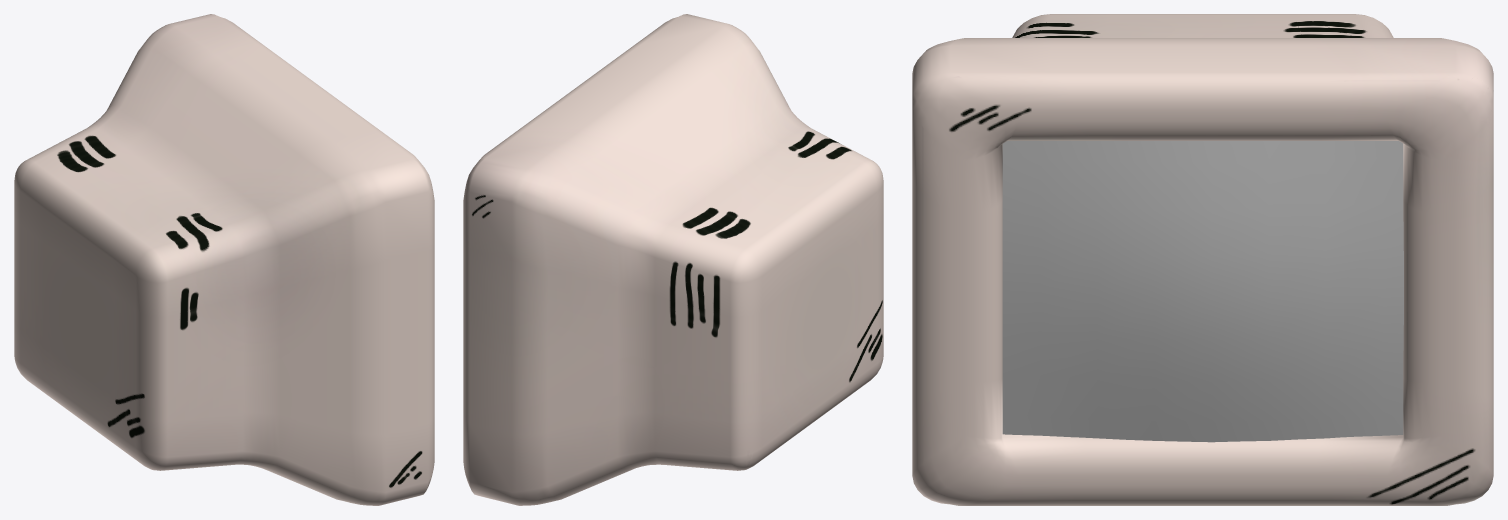
Rendered from F_Monitor.fbx.
3 renders of one model, left to right at view 1: azimuth 30°, elevation 25°; view 2: azimuth 150°, elevation 25°; view 3: azimuth 270°, elevation 25°, orthographic. The views are drawn at different scales.
Visible parts, largest first — view 1: MonitrorScaleRef; view 2: MonitrorScaleRef; view 3: MonitrorScaleRef, Plane.
Part boxes in pixels (x1=…): MonitrorScaleRef: x1=14, y1=14, x2=434, y2=505; MonitrorScaleRef: x1=463, y1=14, x2=883, y2=505; MonitrorScaleRef: x1=912, y1=14, x2=1493, y2=505; Plane: x1=1002, y1=141, x2=1403, y2=442.
Size of the model in its own units: 11908 by 14938 by 18209.
